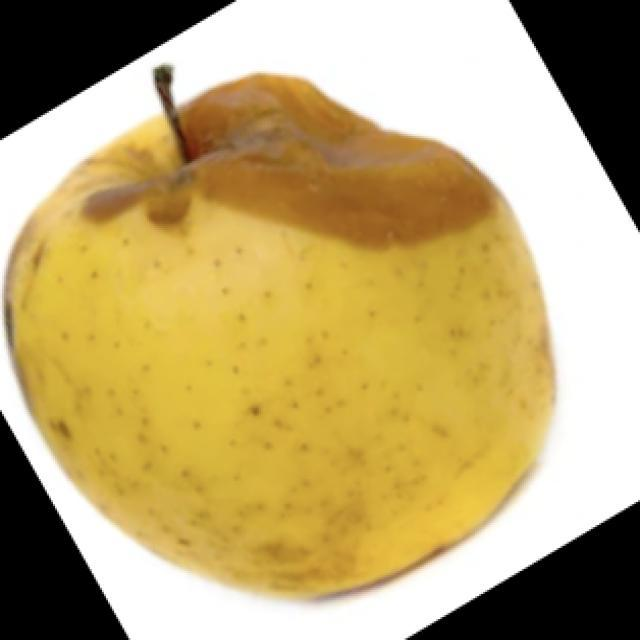Rotten: (22, 82, 535, 615)
